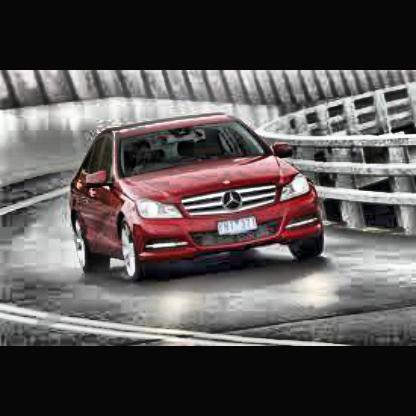Mercedes-Benz C-Class Sedan 2012: (70, 112, 328, 282)
